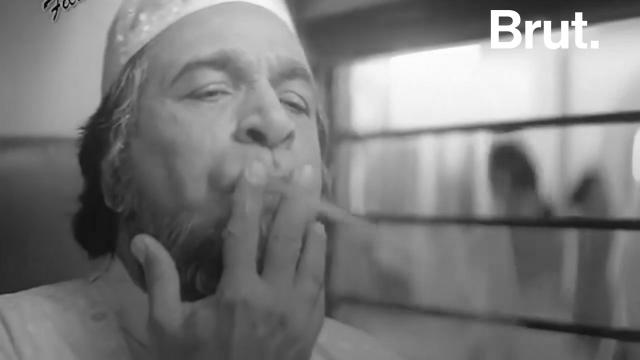spit: (166, 14, 572, 352)
